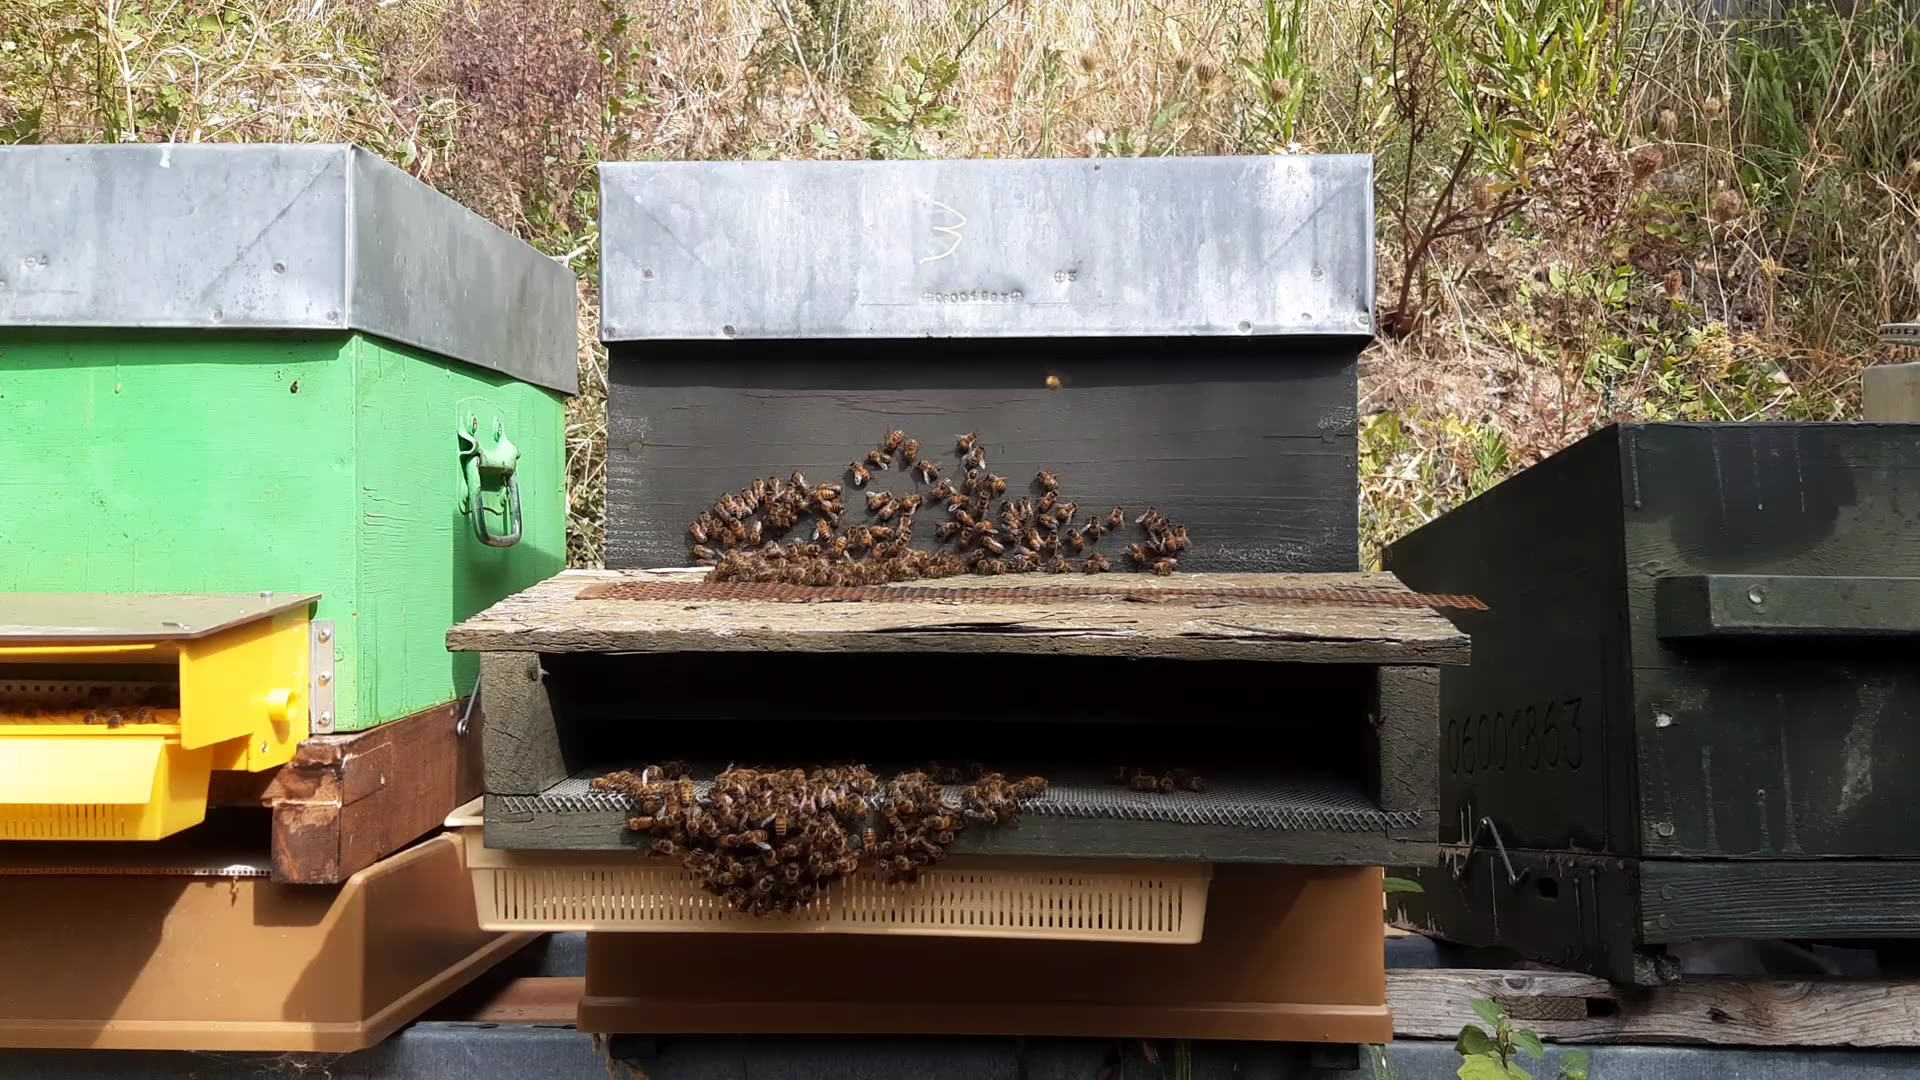bee: (719, 847, 816, 924), (928, 760, 1054, 816), (938, 512, 1021, 593), (593, 781, 680, 837), (709, 506, 800, 559), (1108, 512, 1184, 574), (705, 754, 808, 799), (851, 514, 923, 578), (674, 858, 737, 914), (1033, 510, 1095, 563), (870, 444, 928, 498), (944, 462, 1002, 512), (1378, 294, 1424, 353), (738, 484, 799, 527), (1002, 487, 1050, 531), (1027, 367, 1077, 406)
